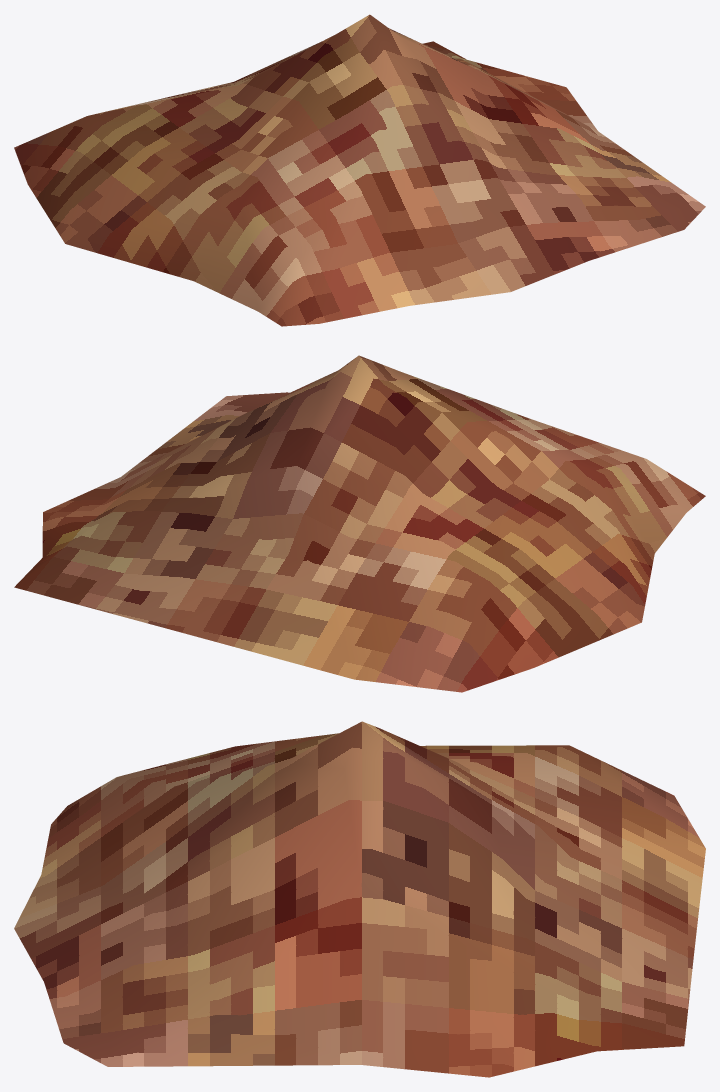
The model's file is edb_food_meat_ground_l2.fbx.
3 renders of one model, top to bottom at view 1: azimuth 30°, elevation 25°; view 2: azimuth 150°, elevation 25°; view 3: azimuth 270°, elevation 25°, orthographic. The views are drawn at different scales.
Parts seen in each view (by area): view 1: mesh_node; view 2: mesh_node; view 3: mesh_node.
Part boxes in pixels (left/top/right/bottom): mesh_node: left=14, top=14, right=705, bottom=326; mesh_node: left=14, top=355, right=705, bottom=692; mesh_node: left=14, top=721, right=705, bottom=1077.
Bounding box in the file's own units: 0.1976 × 0.0605 × 0.1819.
1 material, 1 textured.
